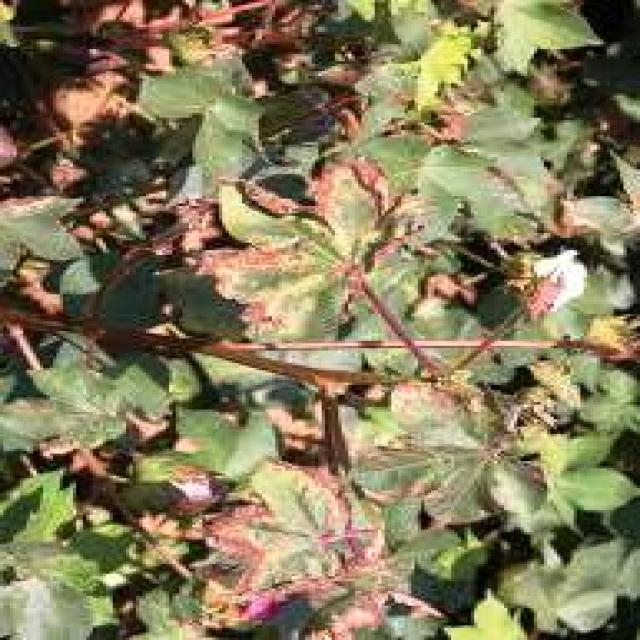Fusarium Wilt: (48, 20, 574, 581)
